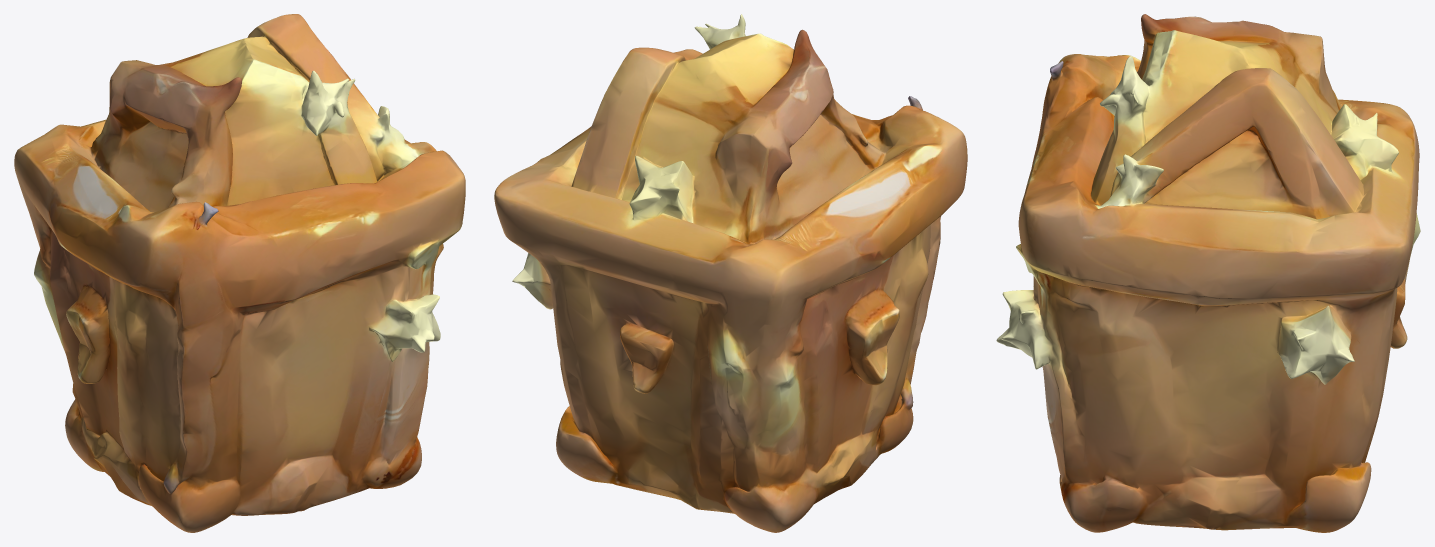
The model's file is prop-treasure-sparkle.glb.
3 renders of one model, left to right at view 1: azimuth 30°, elevation 25°; view 2: azimuth 150°, elevation 25°; view 3: azimuth 270°, elevation 25°, orthographic. The views are drawn at different scales.
Visible parts, largest first — view 1: tripo_node_7ccda417-348e-4826-851a-e916a594c8a8; view 2: tripo_node_7ccda417-348e-4826-851a-e916a594c8a8; view 3: tripo_node_7ccda417-348e-4826-851a-e916a594c8a8.
Part boxes in pixels (bbox=[...]): tripo_node_7ccda417-348e-4826-851a-e916a594c8a8: bbox=[14, 14, 465, 532]; tripo_node_7ccda417-348e-4826-851a-e916a594c8a8: bbox=[494, 14, 967, 532]; tripo_node_7ccda417-348e-4826-851a-e916a594c8a8: bbox=[996, 14, 1420, 532].
Bounding box in the file's own units: 0.2477 × 0.3 × 0.2497.
1 material, 1 textured.
